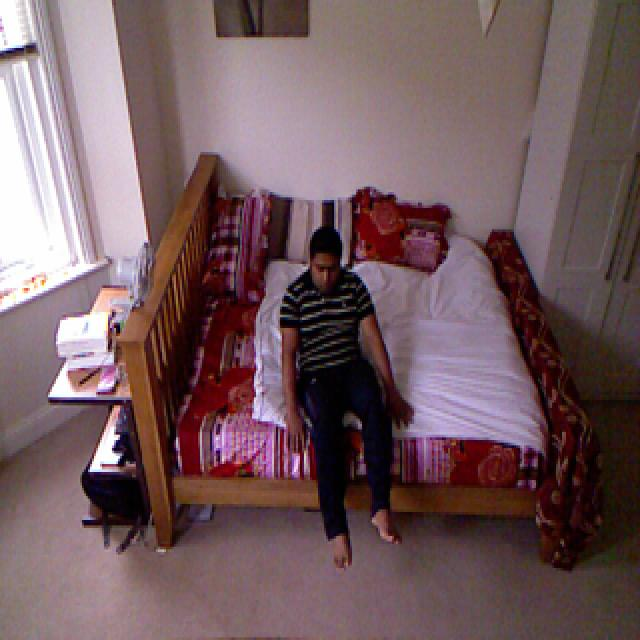sitting: (279, 230, 412, 574)
